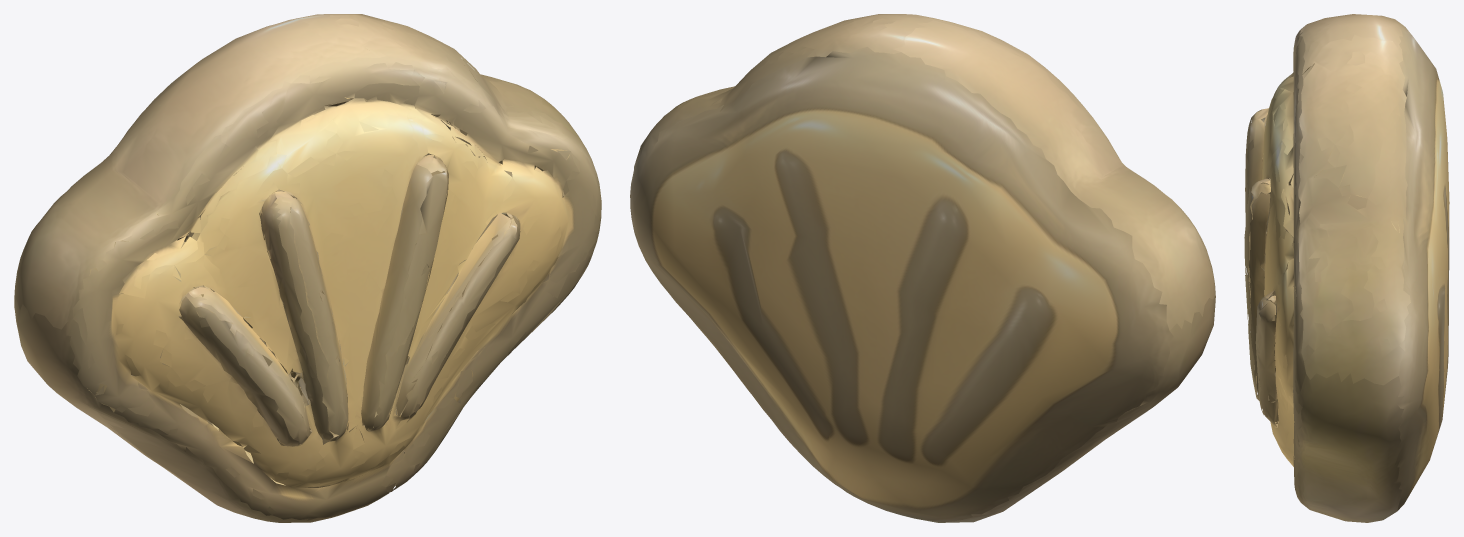
File: shell.glb
3 views of the same model, side by side, from view 1: azimuth 30°, elevation 25°; view 2: azimuth 150°, elevation 25°; view 3: azimuth 270°, elevation 25° (orthographic). The views are drawn at different scales.
Bounding box in the file's own units: 0.08 × 0.0666 × 0.0264.
Materials: 1 (1 with a texture image).
